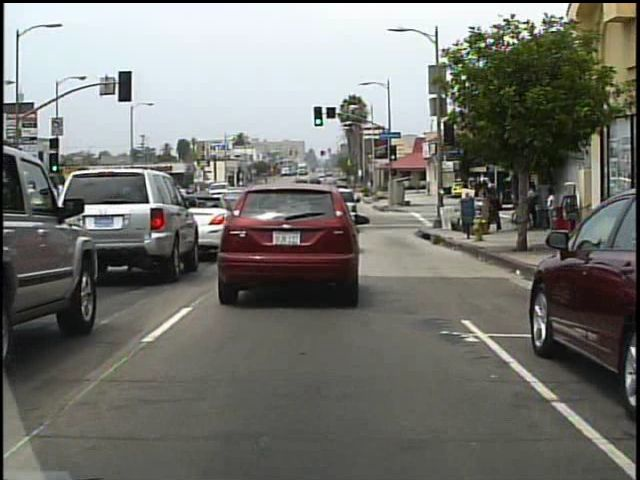person: (486, 182, 505, 235), (545, 187, 559, 233), (530, 182, 543, 230), (515, 185, 527, 222)
